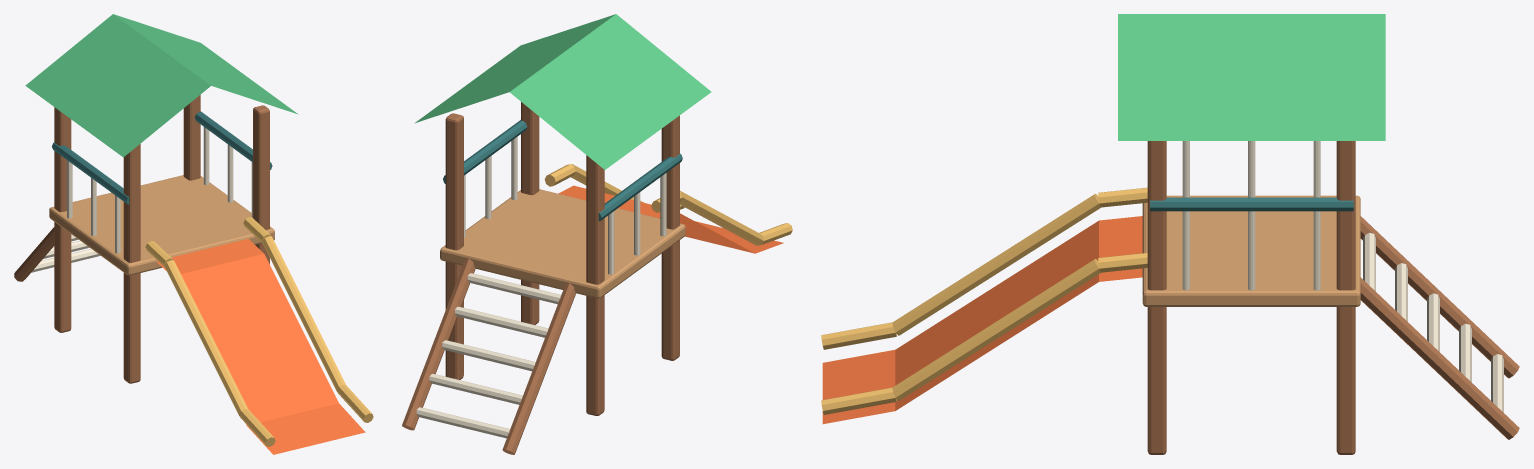
File: play_tower_slide.glb
The picture shows the model from 3 angles, left to right: view 1: azimuth 30°, elevation 25°; view 2: azimuth 150°, elevation 25°; view 3: azimuth 270°, elevation 25°; orthographic projection. The views are drawn at different scales.
Parts seen in each view (by area): view 1: play_tower_slide_Mesh; view 2: play_tower_slide_Mesh; view 3: play_tower_slide_Mesh.
Boxes of the visible parts, x1,y1,x2,y2 form: play_tower_slide_Mesh: [14, 14, 373, 454]; play_tower_slide_Mesh: [402, 14, 792, 454]; play_tower_slide_Mesh: [821, 14, 1519, 454].
Size of the model in its own units: 1.9 by 3 by 4.8.
